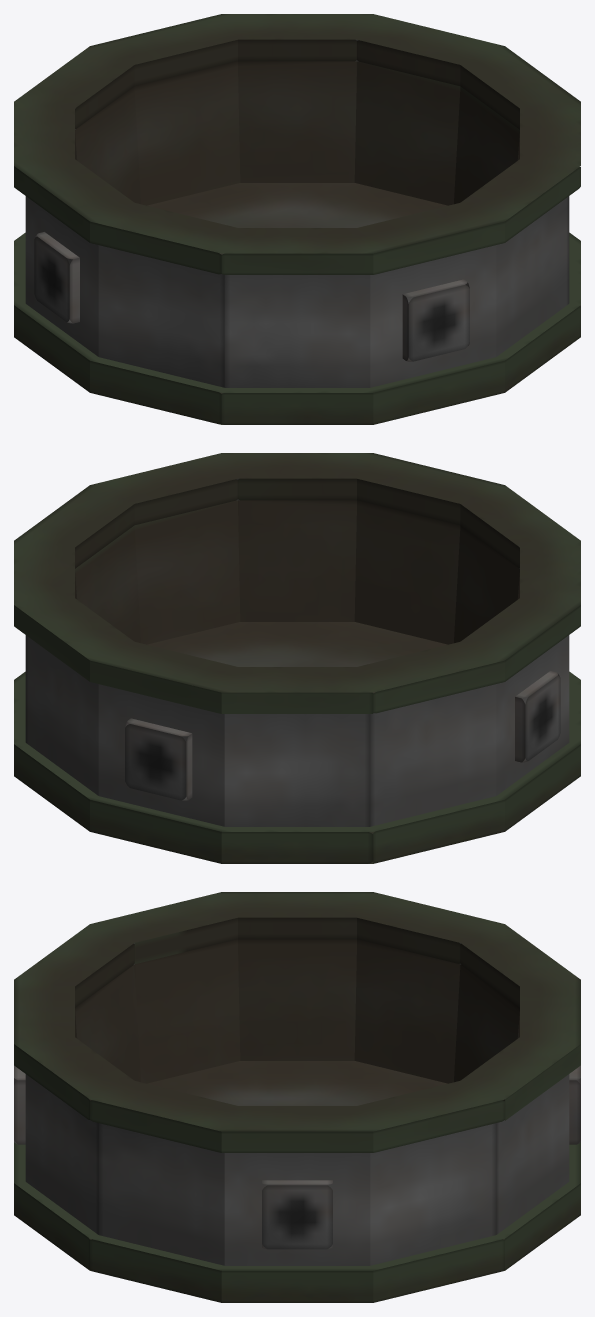
The model's file is ore_leacher.obj.
The picture shows the model from 3 angles, top to bottom: view 1: azimuth 30°, elevation 25°; view 2: azimuth 150°, elevation 25°; view 3: azimuth 270°, elevation 25°; orthographic projection.
Visible parts, largest first — view 1: cylinder; view 2: cylinder; view 3: cylinder.
Boxes of the visible parts, left/top/right/bottom form: cylinder: left=14, top=14, right=580, bottom=424; cylinder: left=14, top=453, right=580, bottom=863; cylinder: left=14, top=892, right=580, bottom=1302.
Size of the model in its own units: 3 by 1 by 3.
